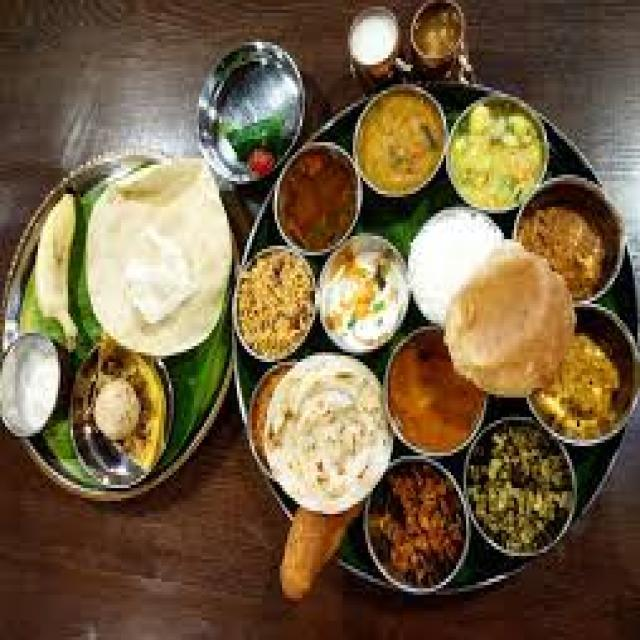curd: (0, 335, 71, 434)
dal: (352, 90, 447, 193)
papad: (79, 154, 235, 350)
rice: (258, 360, 388, 513), (404, 210, 502, 326), (230, 244, 318, 360)
sambar-rasam: (265, 144, 368, 248)
sweet: (90, 363, 150, 449)
